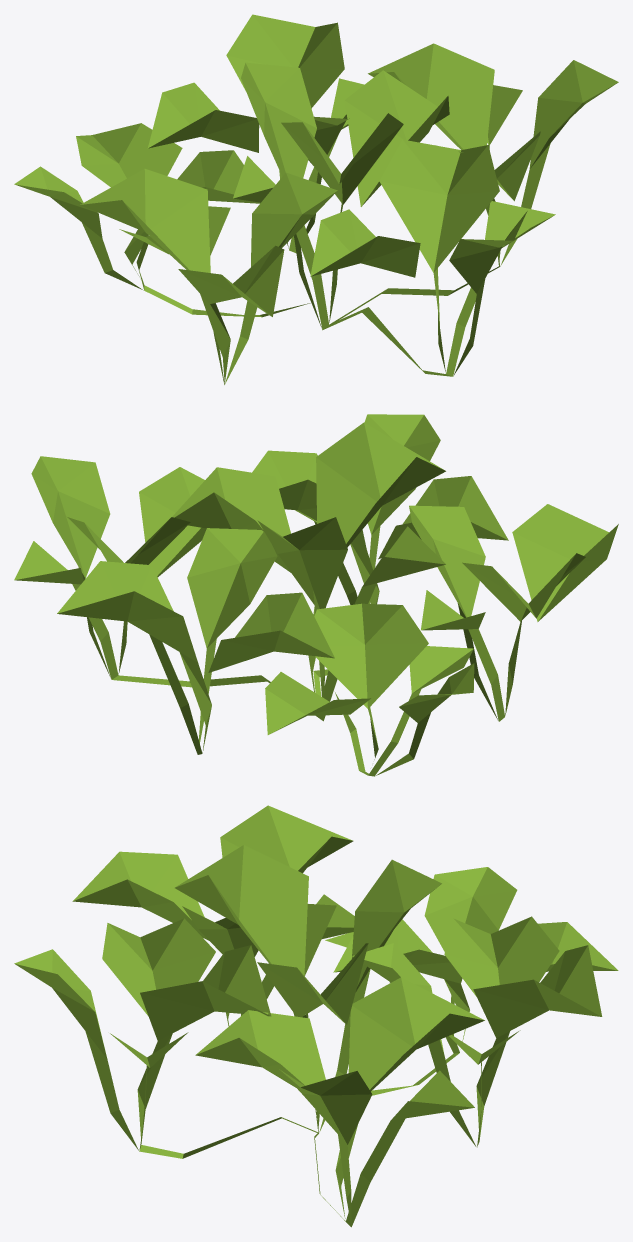
The model's file is SM_Water_Hyacinth_Group_A.fbx.
3 views of the same model, one above another, from view 1: azimuth 30°, elevation 25°; view 2: azimuth 150°, elevation 25°; view 3: azimuth 270°, elevation 25° (orthographic). The views are drawn at different scales.
Visible parts, largest first — view 1: water-hyacinth-group-a; view 2: water-hyacinth-group-a; view 3: water-hyacinth-group-a.
Boxes of the visible parts, x1,y1,x2,y2 form: water-hyacinth-group-a: (14,14,618,384); water-hyacinth-group-a: (14,414,618,776); water-hyacinth-group-a: (14,805,618,1227).
Size of the model in its own units: 0.7314 by 0.3497 by 0.7073.
